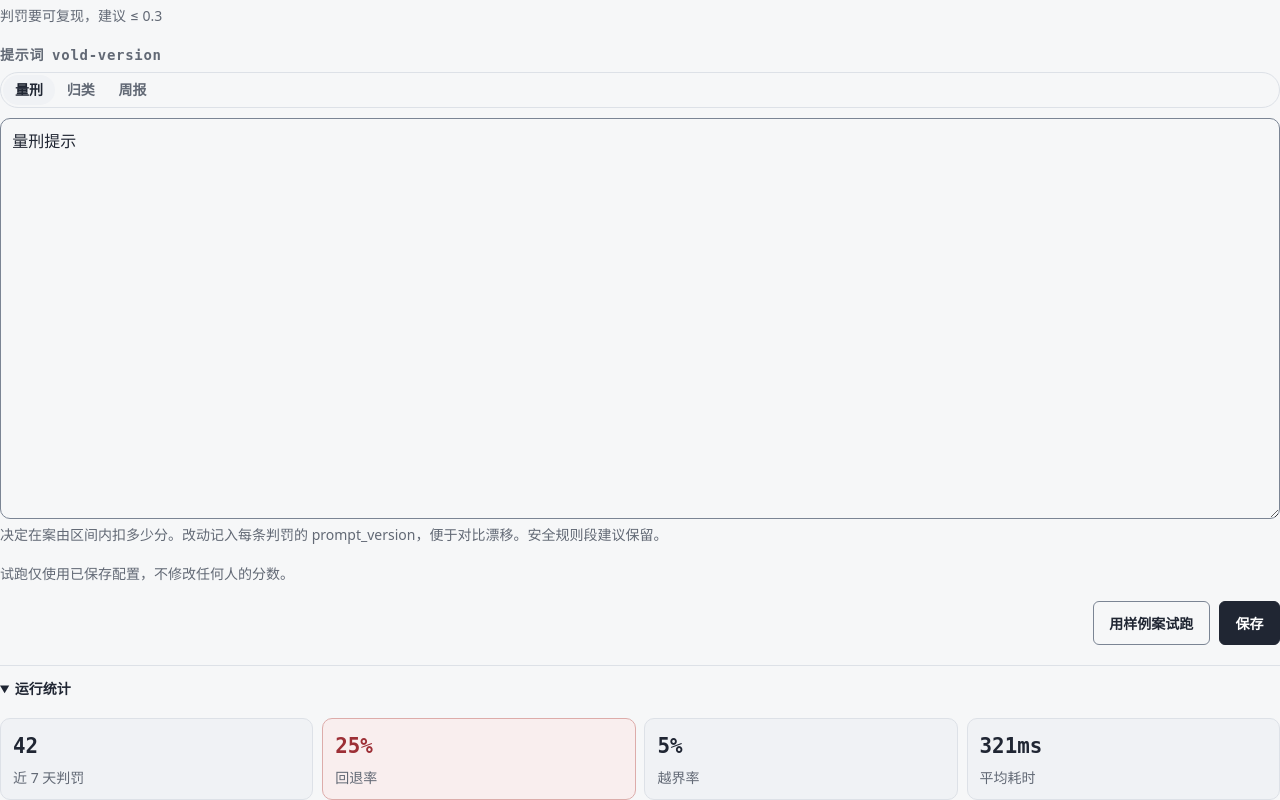
Test: AI settings and legacy administration entry › tests the saved configuration without submitting unsaved form values and renders escaped results
(page scrolled)
Click the button "用样例案试跑" at (1151, 623), box [1093,601,1210,645]
(page scrolled)
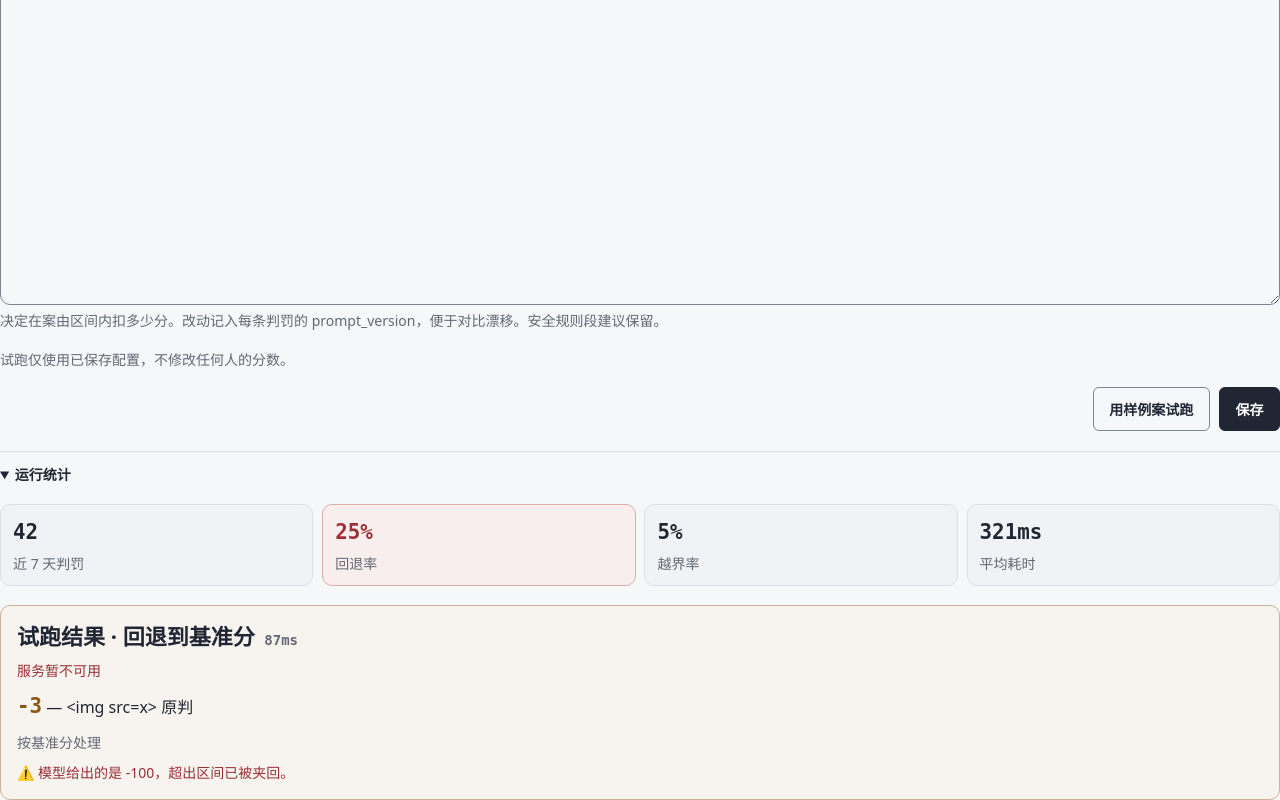
Check: the heading "试跑结果 · 回退到基准分 87ms" is shown, box [17,621,298,651]
Check: the text "<img src=x> 原判" is shown, box [66,696,193,718]
Check: the text "服务暂不可用" is shown, box [17,661,101,680]
